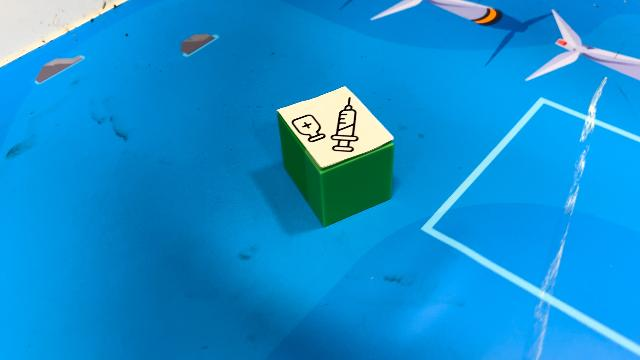syringe: (275, 84, 397, 228)
